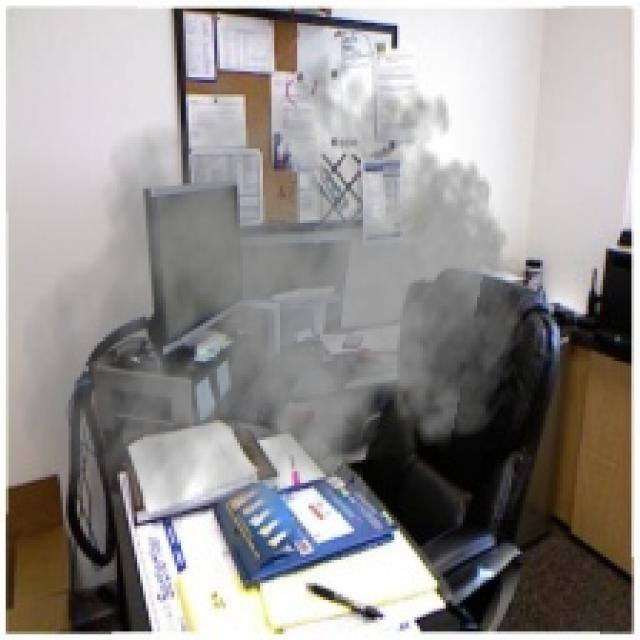smoke: (14, 31, 532, 580)
